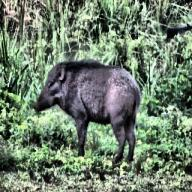boar: (32, 58, 142, 164)
